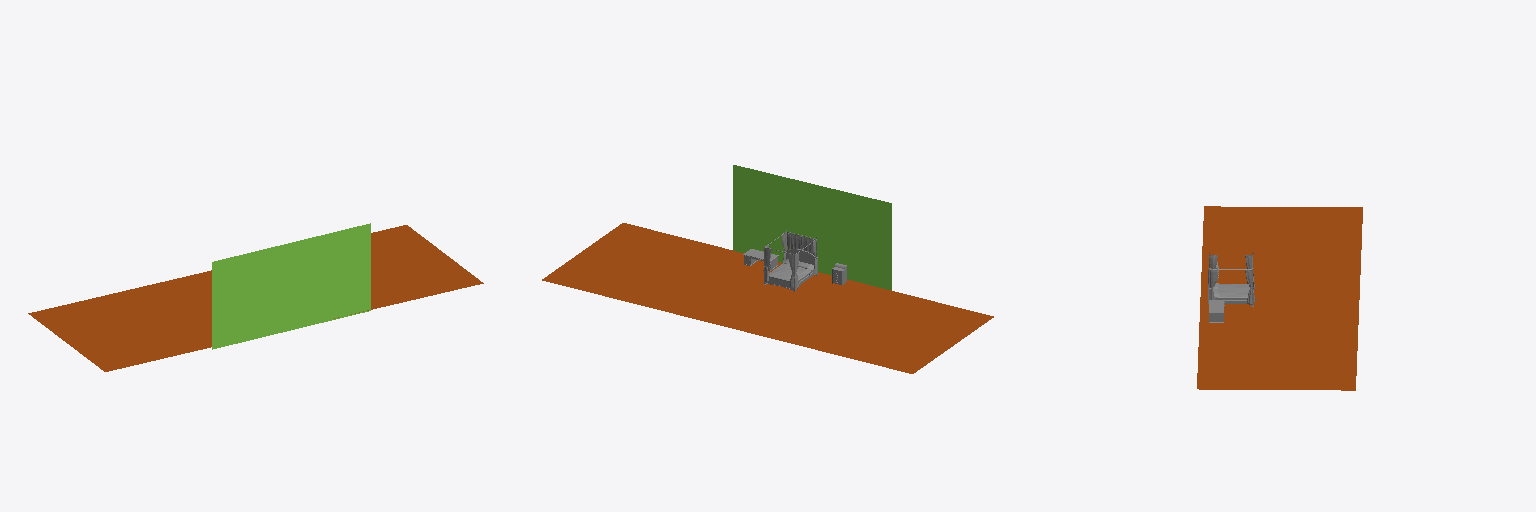
3 views of the same model, side by side, from view 1: azimuth 30°, elevation 25°; view 2: azimuth 150°, elevation 25°; view 3: azimuth 270°, elevation 25° (orthographic).
Visible parts, largest first — view 1: Plane001, Plane002; view 2: Plane001, Plane002, Mesh0_Mesh1, Mesh0; view 3: Plane001, Mesh0_Mesh1.
Part boxes in pixels (bbox=[...]): Plane001: bbox=[28, 225, 483, 371]; Plane002: bbox=[212, 223, 370, 349]; Plane001: bbox=[542, 223, 993, 373]; Plane002: bbox=[733, 165, 891, 290]; Mesh0_Mesh1: bbox=[763, 232, 816, 288]; Mesh0: bbox=[764, 230, 817, 291]; Plane001: bbox=[1197, 206, 1362, 390]; Mesh0_Mesh1: bbox=[1208, 255, 1255, 304].
Bounding box in the file's own units: 322 × 71.39 × 123.